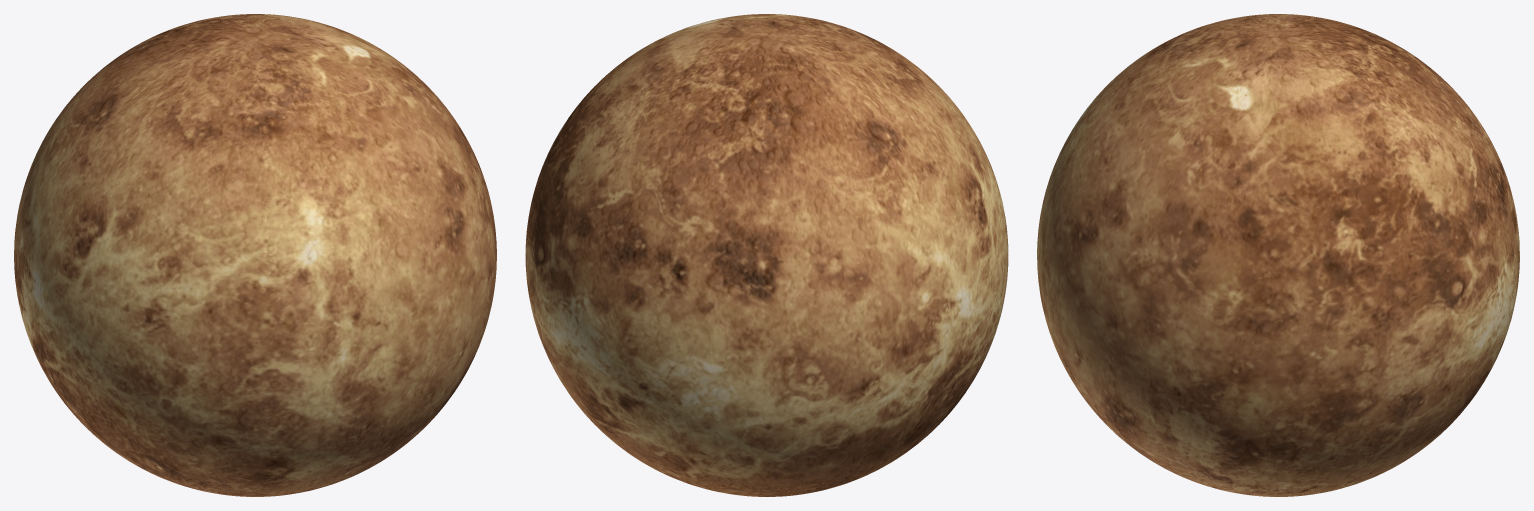
The model's file is Venus.FBX.
3 views of the same model, side by side, from view 1: azimuth 30°, elevation 25°; view 2: azimuth 150°, elevation 25°; view 3: azimuth 270°, elevation 25° (orthographic).
Visible parts, largest first — view 1: Venus; view 2: Venus; view 3: Venus.
Part boxes in pixels (x1,y1,x2,y2): Venus: [14, 14, 496, 496]; Venus: [525, 14, 1008, 496]; Venus: [1037, 14, 1519, 496].
Bounding box in the file's own units: 296 × 296 × 296.
1 material, 1 textured.
